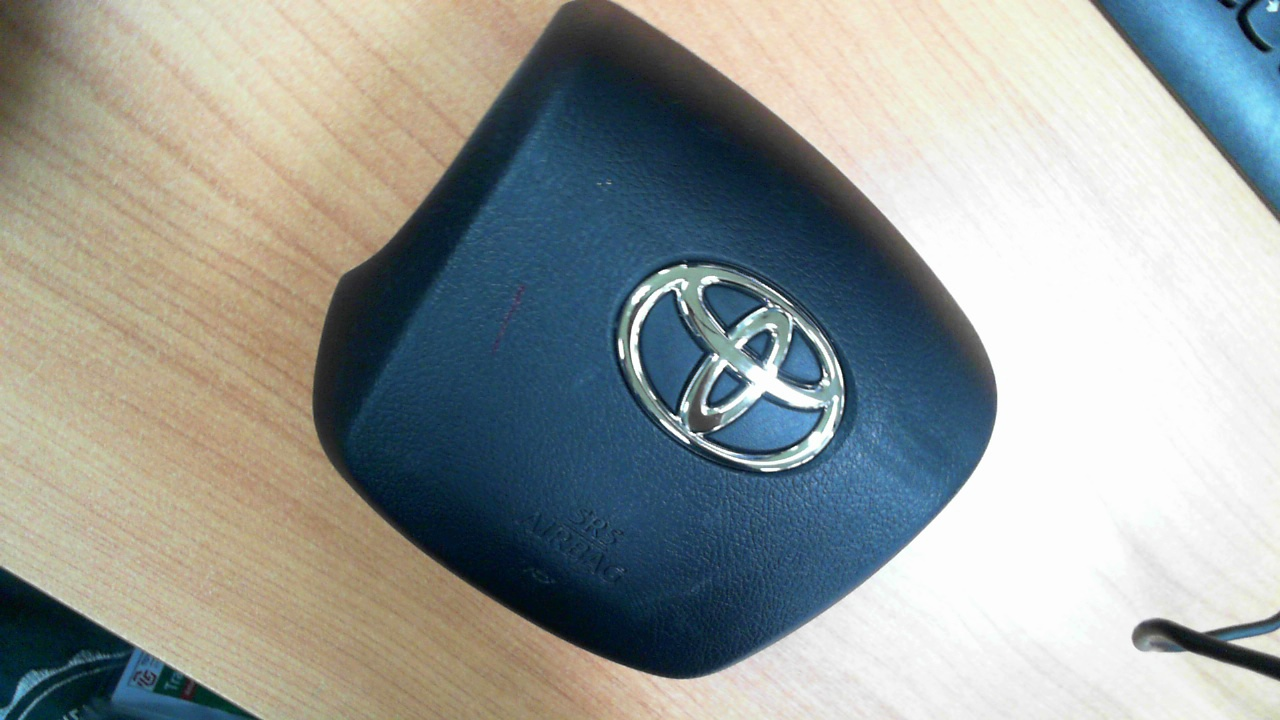Airbag: (310, 3, 999, 681)
Toyota: (617, 263, 845, 473)
